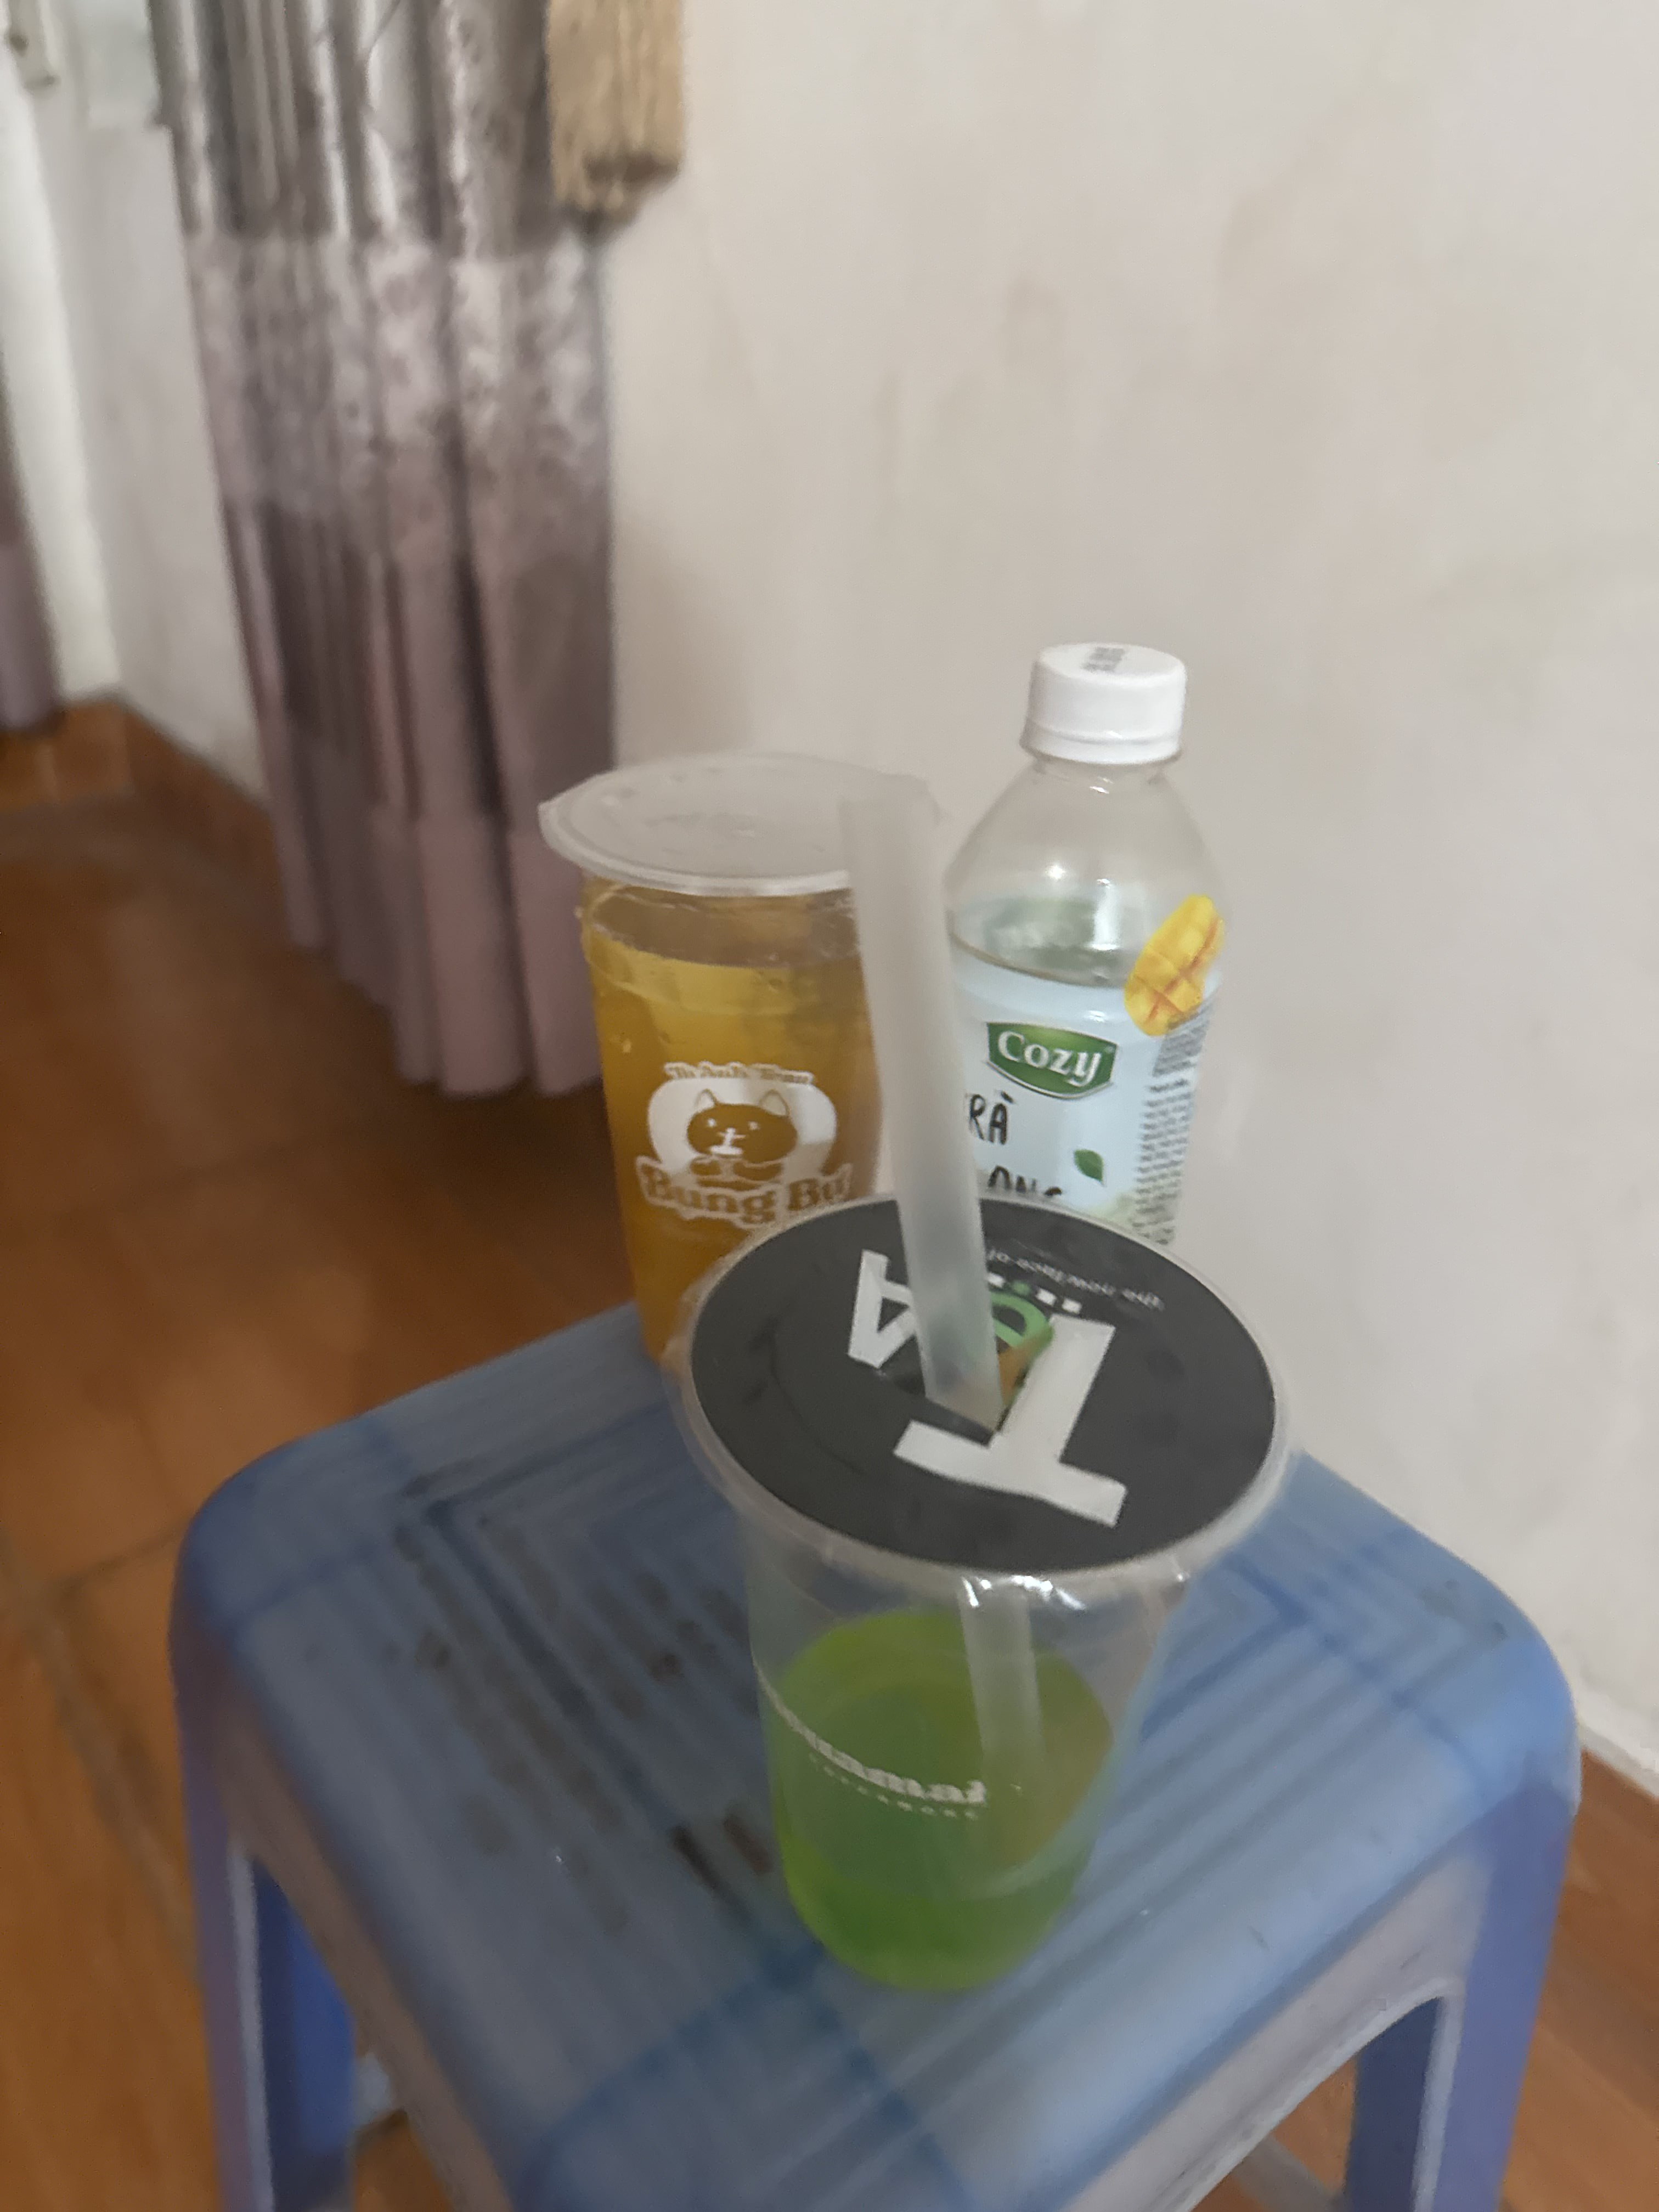bottle: (901, 632, 1236, 1289)
cup: (652, 1186, 1293, 2020), (537, 737, 934, 1440)
